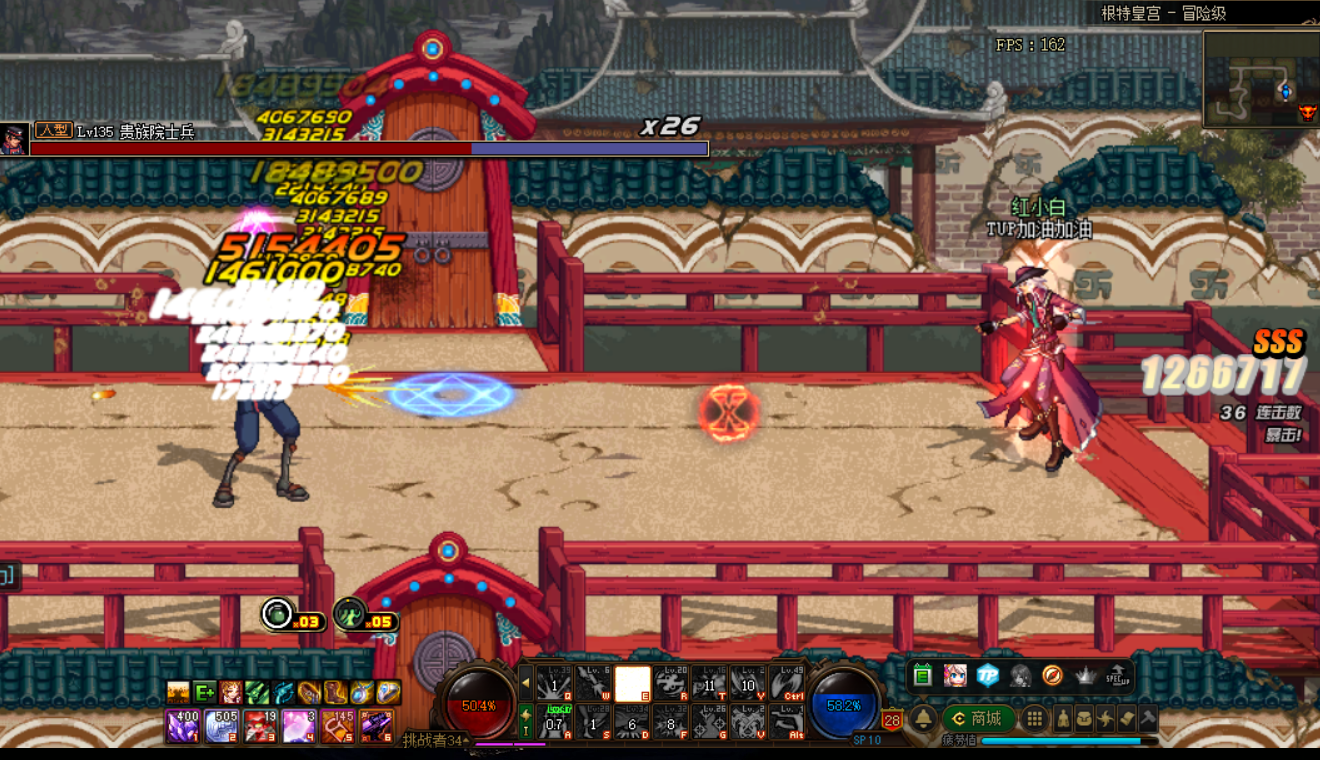monster: (195, 288, 319, 511)
warrior: (953, 256, 1114, 485)
